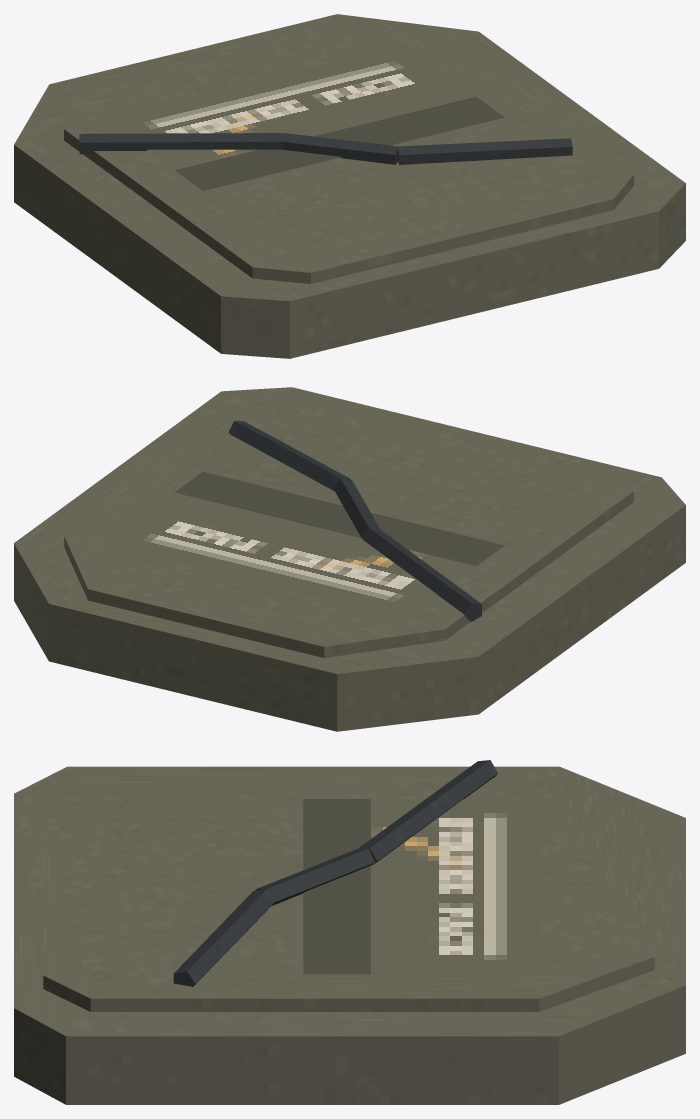
File: destroyed_large_ceramic_plate.glb
3 views of the same model, one above another, from view 1: azimuth 30°, elevation 25°; view 2: azimuth 150°, elevation 25°; view 3: azimuth 270°, elevation 25° (orthographic). The views are drawn at different scales.
Visible parts, largest first — view 1: block_raised outer surface, block_shaped protective panel, block_orientation marking, block_fracture 0, block_fracture 2, block_fracture 1; view 2: block_raised outer surface, block_shaped protective panel, block_orientation marking, block_fracture 0, block_fracture 2, block_fracture 1; view 3: block_raised outer surface, block_shaped protective panel, block_orientation marking, block_fracture 0, block_fracture 2, block_fracture 1.
Part boxes in pixels (bbox=[...]): block_raised outer surface: bbox=[64, 18, 633, 283]; block_shaped protective panel: bbox=[14, 14, 685, 358]; block_orientation marking: bbox=[103, 44, 504, 190]; block_fracture 0: bbox=[79, 133, 283, 154]; block_fracture 2: bbox=[397, 138, 572, 164]; block_fracture 1: bbox=[282, 133, 398, 164]; block_raised outer surface: bbox=[64, 393, 633, 657]; block_shaped protective panel: bbox=[14, 387, 685, 731]; block_orientation marking: bbox=[103, 472, 504, 618]; block_fracture 0: bbox=[363, 528, 481, 621]; block_fracture 2: bbox=[228, 421, 350, 491]; block_fracture 1: bbox=[333, 478, 379, 538]; block_raised outer surface: bbox=[43, 777, 654, 1011]; block_shaped protective panel: bbox=[14, 766, 685, 1104]; block_orientation marking: bbox=[303, 799, 540, 974]; block_fracture 0: bbox=[358, 760, 497, 863]; block_fracture 2: bbox=[173, 888, 274, 986]; block_fracture 1: bbox=[256, 848, 374, 905].
Bounding box in the file's own units: 0.3039 × 0.0514 × 0.32.
Materials: 1 (1 with a texture image).
